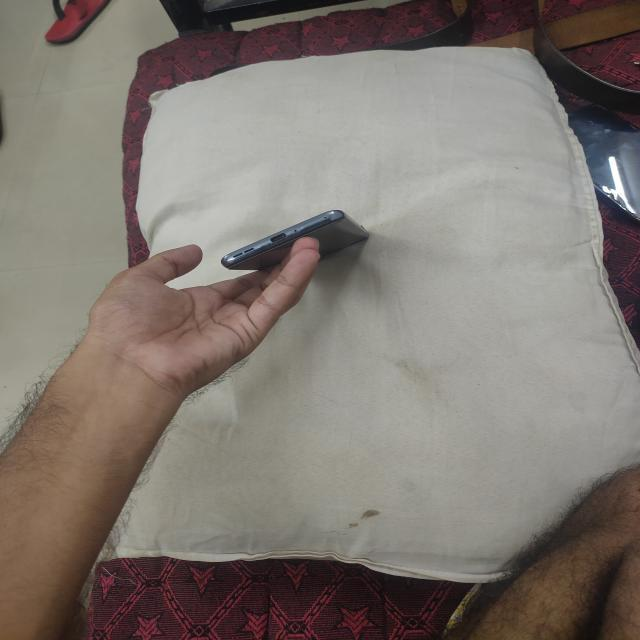Phone: (218, 205, 374, 276)
